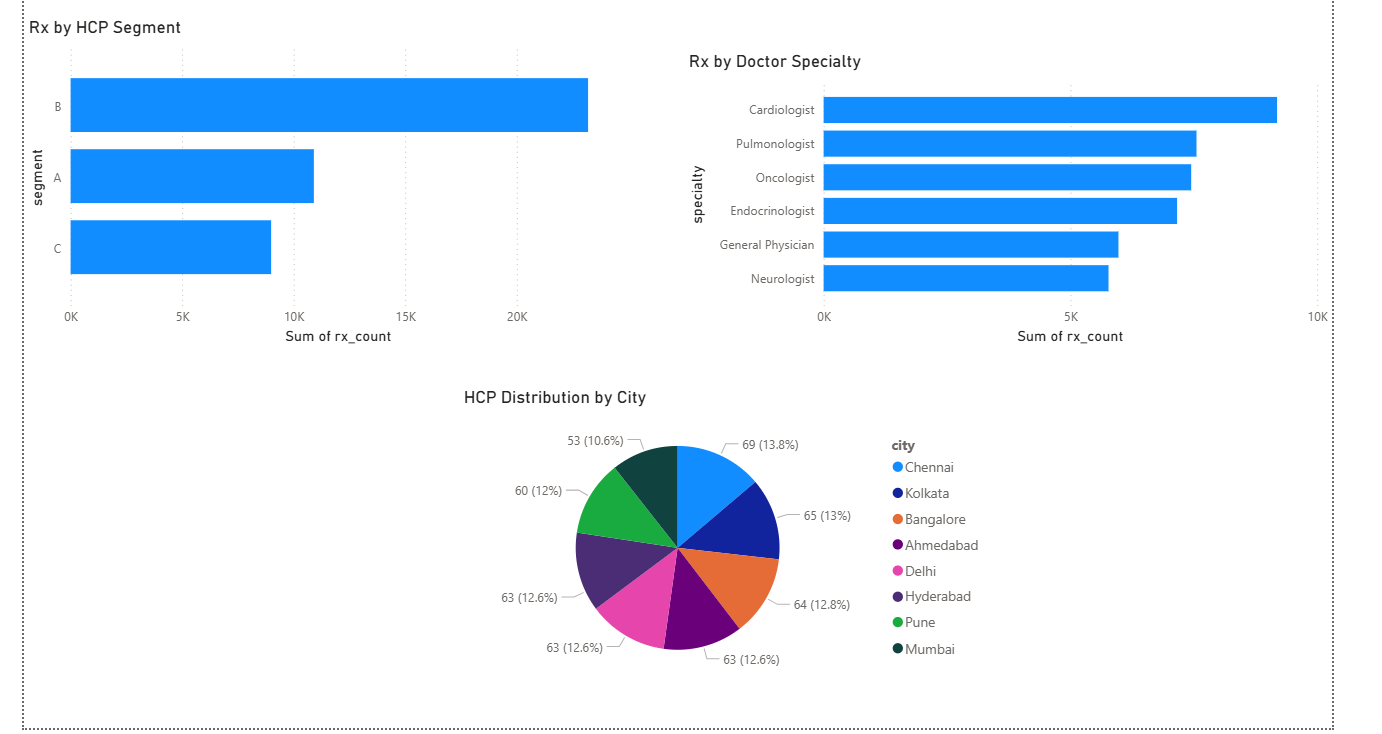

Layout of this report page (visuals, bound fields, positions):
{"tool":"powerbi","page":{"name":"HCP Targeting","canvas":[1280,720],"ordinal":2},"visuals":[{"type":"clusteredBarChart","fields":{"Y":["Sum(prescriptions.rx_count)"],"Category":["hcps.segment"]},"box":[0,24.5,584.5,325.3],"z":0},{"type":"clusteredBarChart","fields":{"Category":["hcps.specialty"],"Y":["Sum(prescriptions.rx_count)"]},"box":[645.7,57.5,634.7,292.3],"z":1000},{"type":"pieChart","fields":{"Category":["hcps.city"],"Y":["CountNonNull(hcps.hcp_id)"]},"box":[425.5,386.4,522.1,295.9],"z":2000}]}

Visuals, with their boxes on the page's 1280x720 design canvas (x1, y1, x2, y2). These are canvas units, not pixel positions in the 1382x734 screenshot, which may show the page scaled, cropped or inside an application window:
clusteredBarChart - Sum(prescriptions.rx_count) x hcps.segment: {"left": 0, "top": 24, "right": 584, "bottom": 350}
clusteredBarChart - hcps.specialty x Sum(prescriptions.rx_count): {"left": 646, "top": 58, "right": 1280, "bottom": 350}
pieChart - hcps.city x CountNonNull(hcps.hcp_id): {"left": 426, "top": 386, "right": 948, "bottom": 682}
